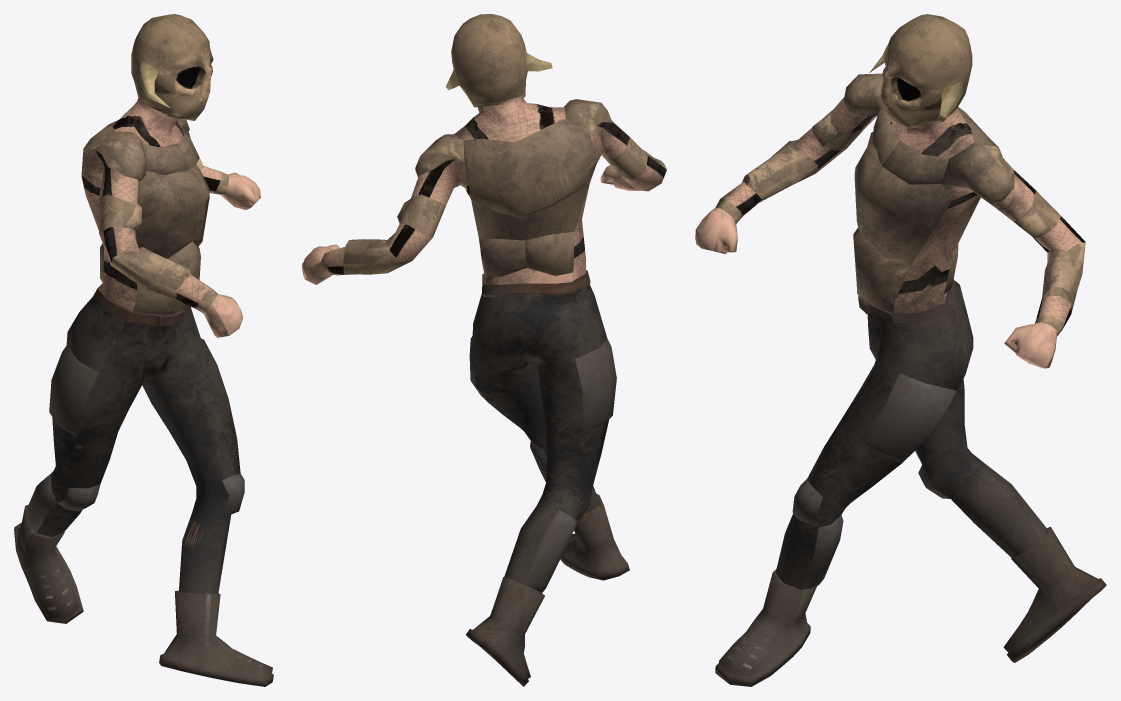
Rendered from Anim_ataque_f1_npc1.0015.obj.
3 renders of one model, left to right at view 1: azimuth 30°, elevation 25°; view 2: azimuth 150°, elevation 25°; view 3: azimuth 270°, elevation 25°, orthographic. The views are drawn at different scales.
Visible parts, largest first — view 1: NPC2; view 2: NPC2; view 3: NPC2.
Boxes of the visible parts, box(x1,y1,x2,y2) form: NPC2: box(14, 14, 273, 686); NPC2: box(302, 14, 666, 686); NPC2: box(695, 14, 1106, 686).
Size of the model in its own units: 4.06 by 9.43 by 5.17.
